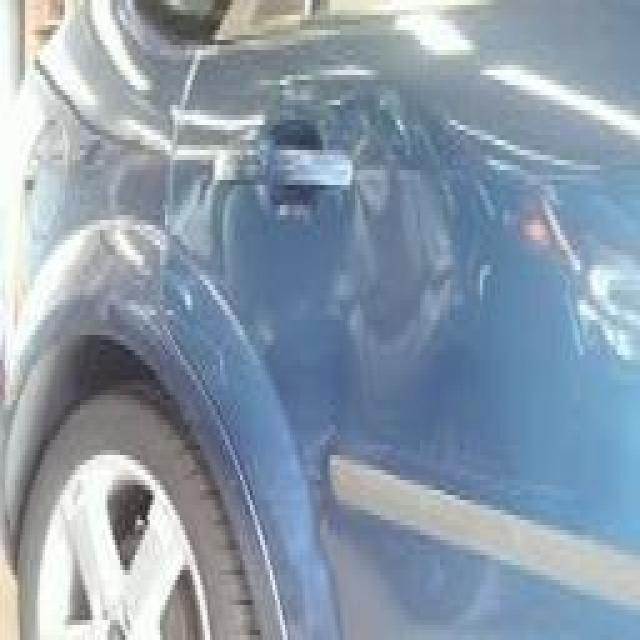Door: (121, 38, 640, 502)
